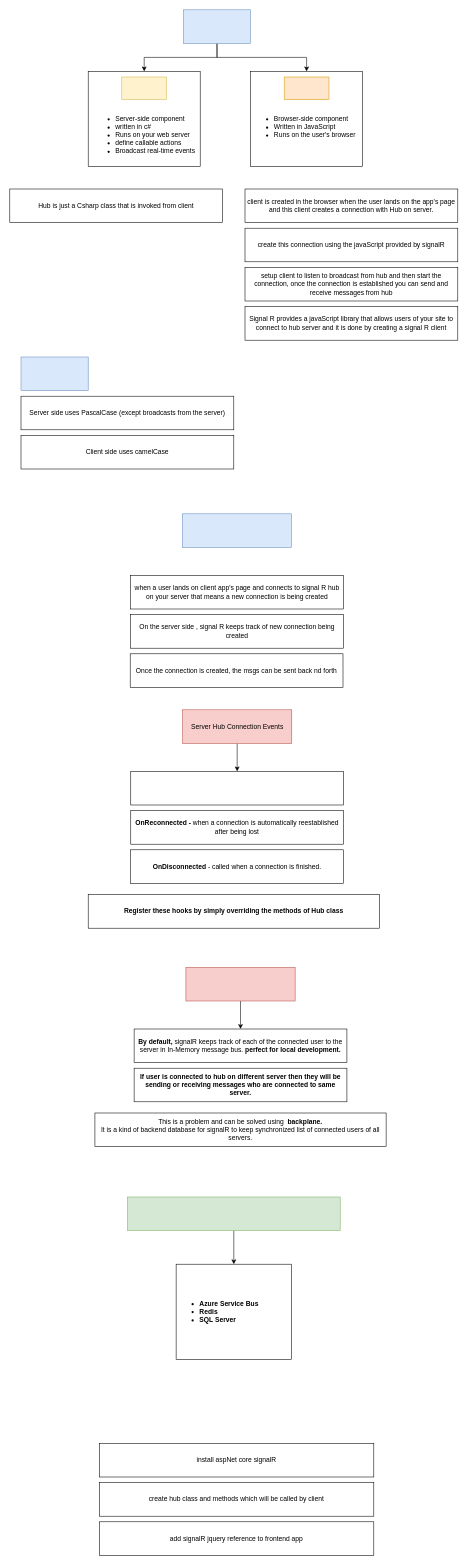
Some shapes in this 468 by 1565 pixel diagram are drawn without their labels. Here are the shapes that lost their labels. From the top down, the centre of each, then its label:
At [217,26]: "SignalR".
At [144,87]: "Hubs".
At [306,87]: "Clients".
At [54,373]: "Remember".
At [236,530]: "Signal R connection lifetime".
At [237,788]: "OnConnected - called when a new client connects".
At [240,984]: "Scaling with SignalR".
At [233,1213]: "Currently supported Backplanes".
